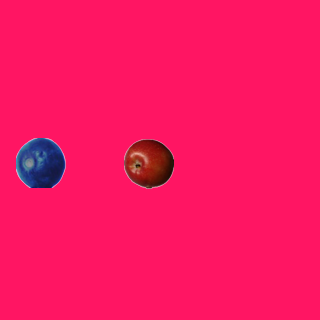Apple Braeburn: (123, 138, 173, 188)
Huckleberry: (15, 137, 65, 187)
